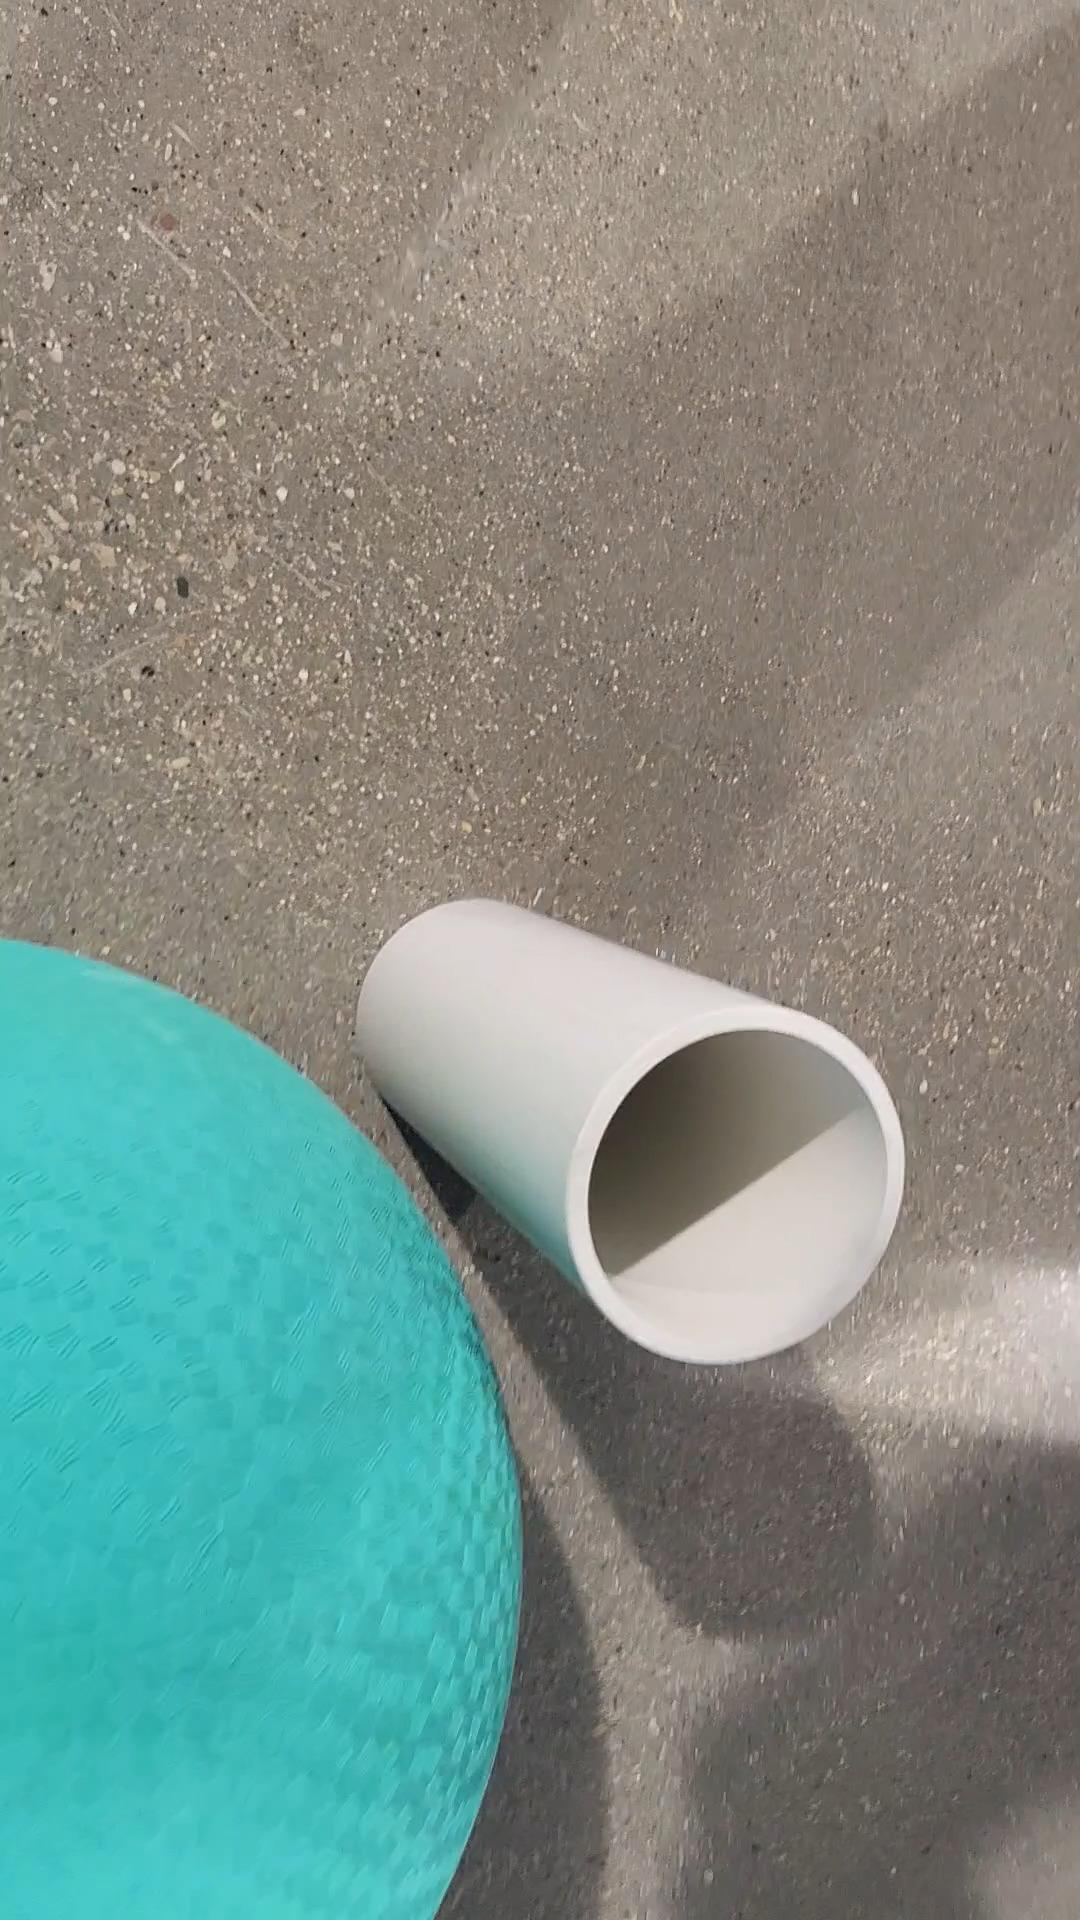algae: (0, 932, 527, 1919)
coral: (352, 895, 902, 1365)
